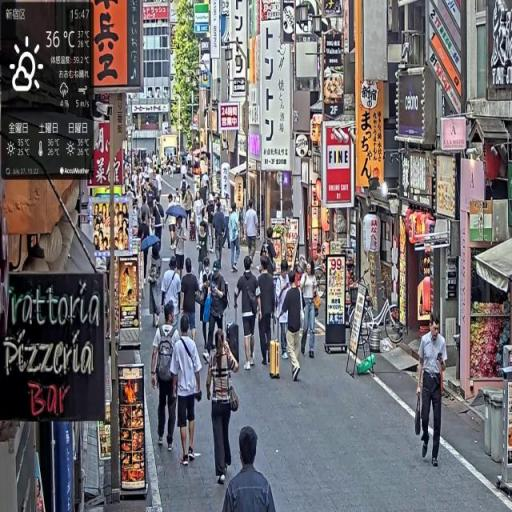person: (207, 327, 241, 489), (416, 314, 449, 469), (224, 424, 277, 512), (151, 300, 181, 451), (173, 317, 203, 468), (236, 253, 261, 372), (282, 267, 306, 386), (204, 259, 230, 361), (256, 253, 277, 371), (300, 261, 322, 360), (181, 256, 201, 343), (161, 255, 183, 330), (244, 201, 260, 263), (173, 216, 188, 282), (228, 207, 242, 276), (214, 203, 227, 270), (198, 223, 210, 286)
